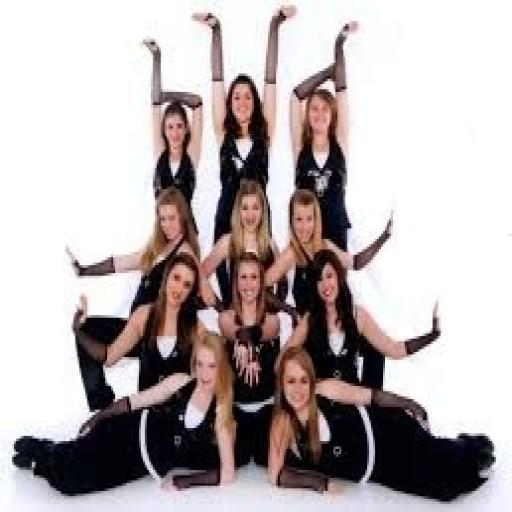dancing: (10, 328, 240, 499), (264, 344, 498, 507)
